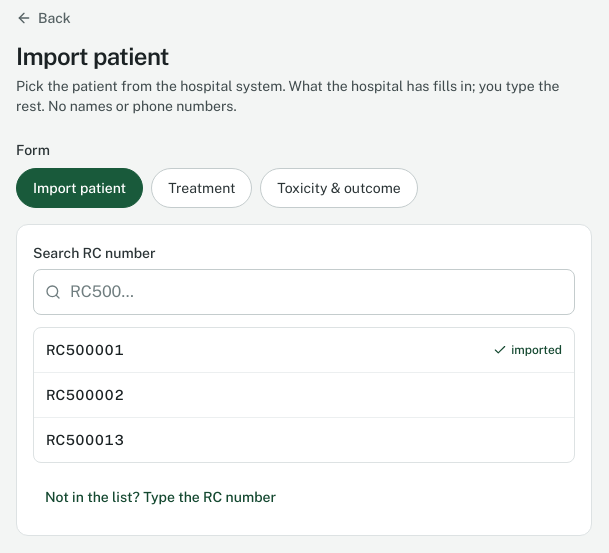
ImportPatientPage › typing filters the list
expect the button "RC500002" is shown: met, box [34,373,574,417]
Type "13" into the field labelled "Search RC number" at x=304, y=292, box [33,269,575,315]
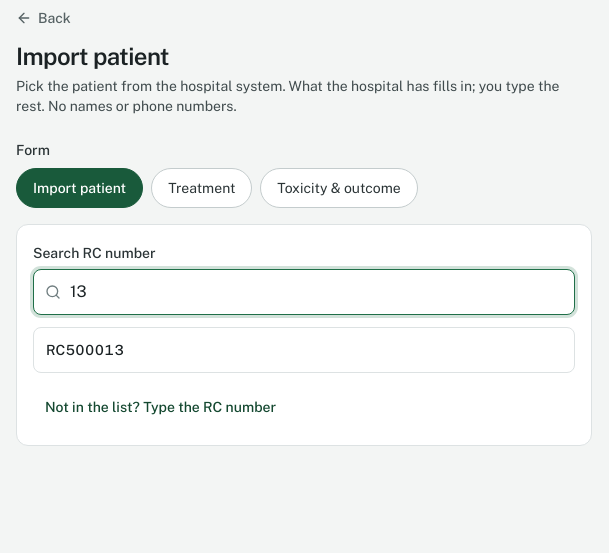
expect the button "RC500013" is shown: met, box [34,328,574,372]
expect the button "RC500002" is gone: met
